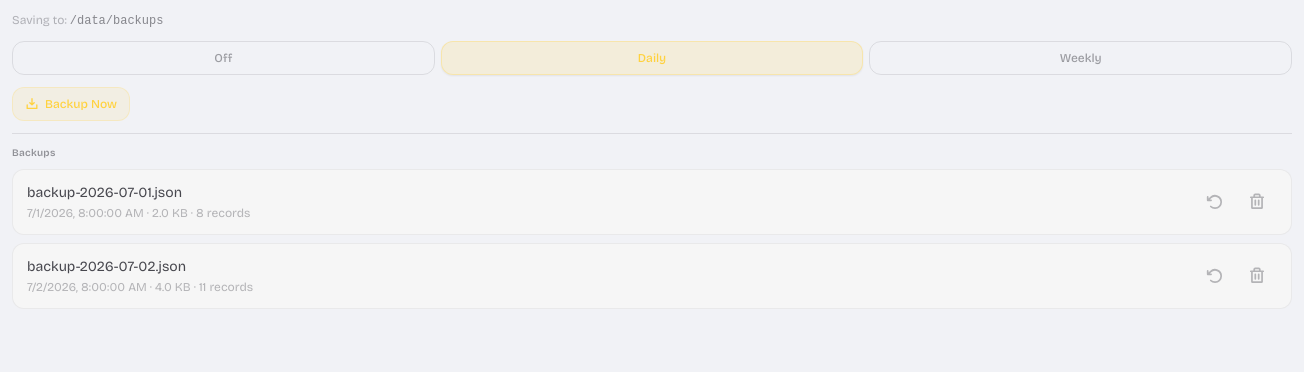
Scenario: BackupSection › restores a backup after confirmation
Expected: the text "backup-2026-07-01.json" is shown, [27,184,182,201]
Click the button named "Restore from backup-2026-07-01.json": click(1215, 202) [1195,182,1235,222]
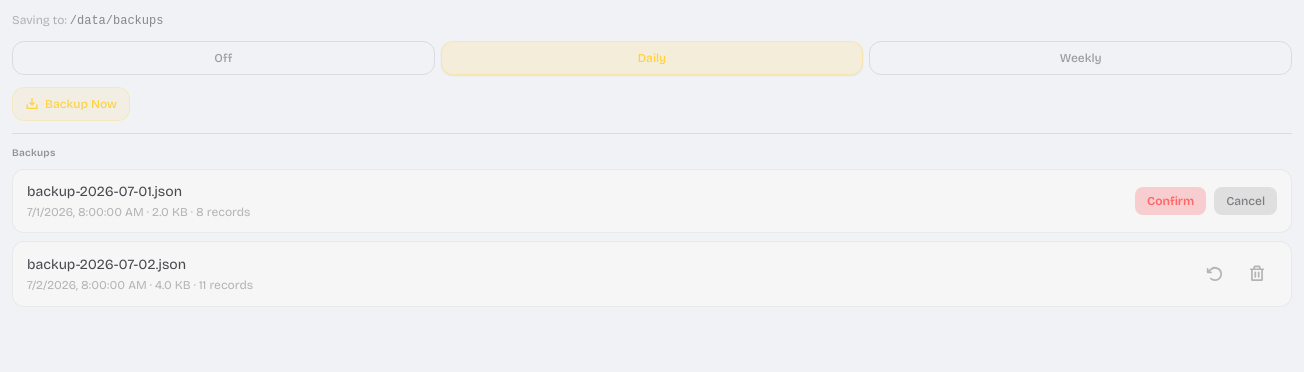
Click the button with aria-label "Confirm restore": click(1171, 201) [1135,187,1206,215]
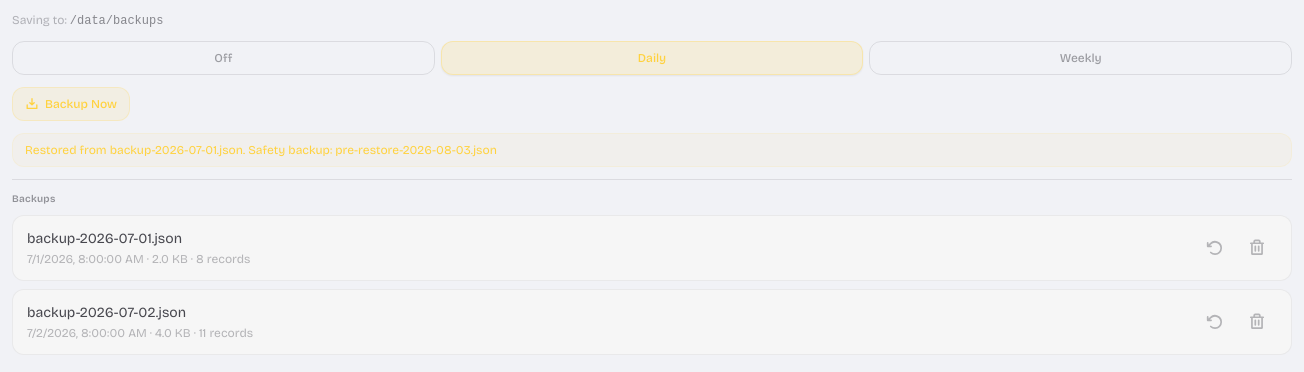
Now the text "Restored from backup-2026-07-01.json" is shown, box [25,143,497,157]
